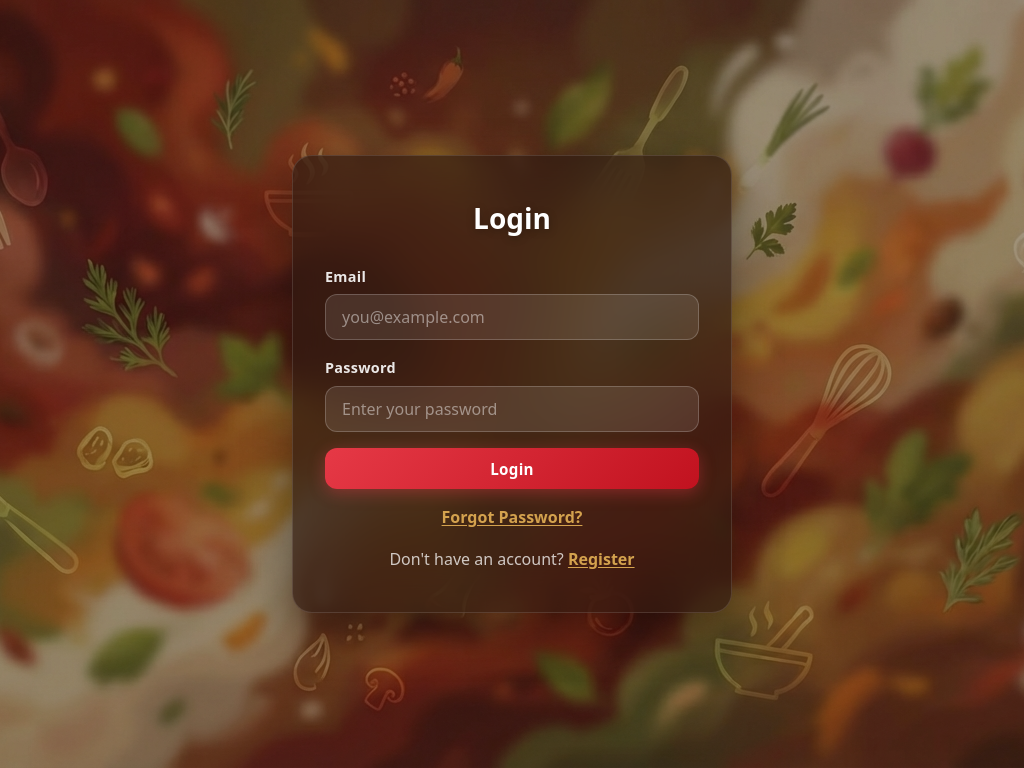
Test: Login › shows password validation error on blur with empty password
The width and height of the screenshot is (1024, 768).
Click the password field with placeholder "Enter your password" at (512, 409), box [325,386,699,432]
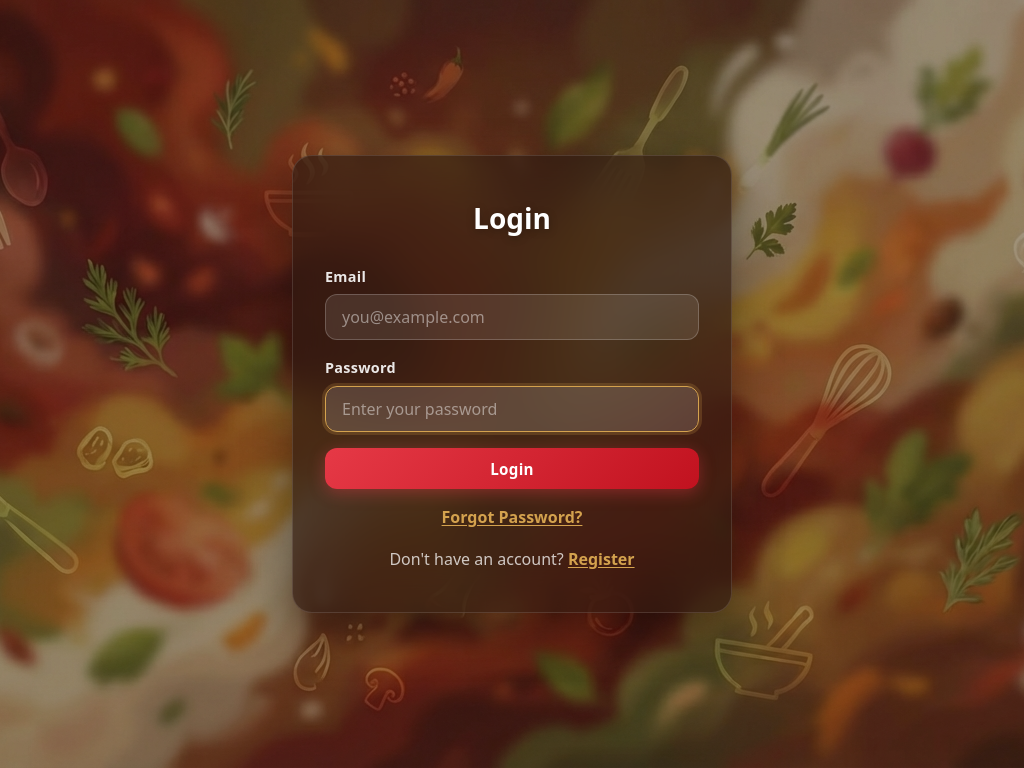
Press Tab
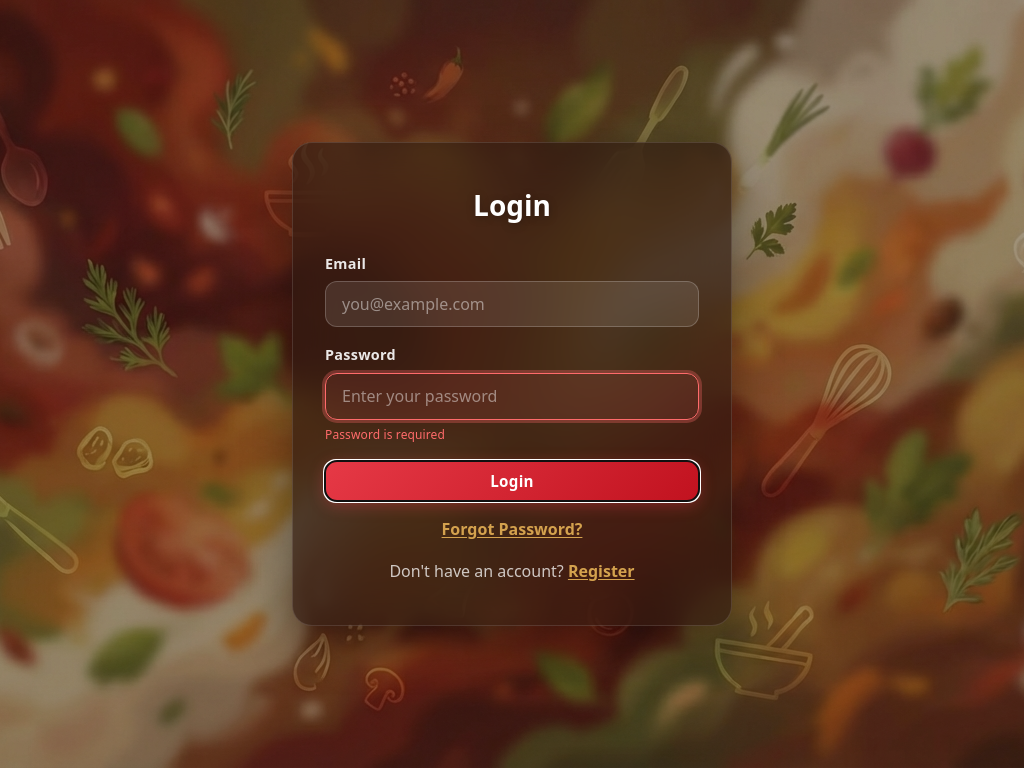
Expected: the text "Password is required" is shown, [325,426,445,443]
